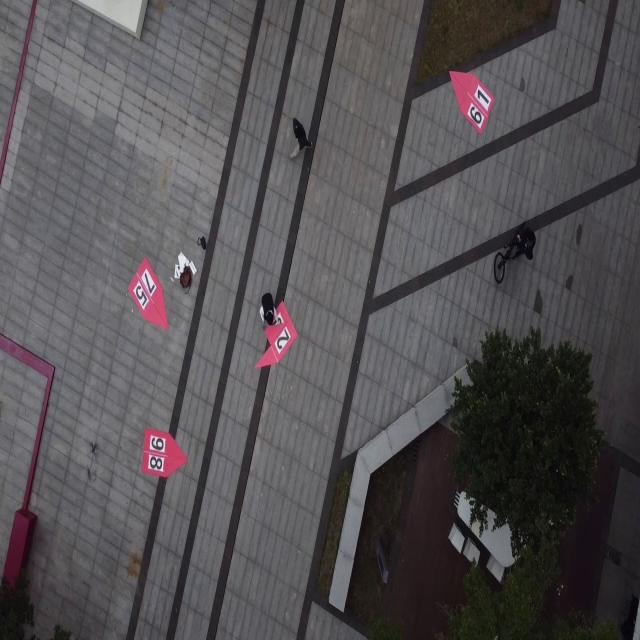-sign-: (128, 256, 168, 332), (254, 301, 298, 369), (448, 70, 492, 137), (142, 429, 187, 479)
